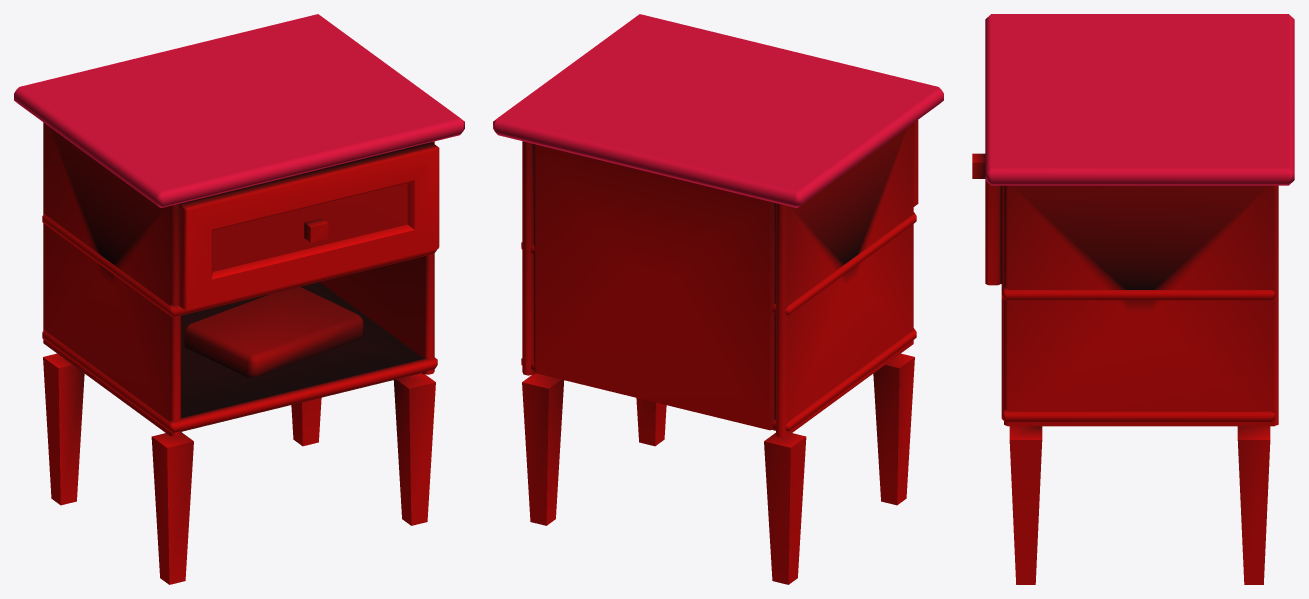
The model's file is CI_Bedroom_BedsideTable_Drawer.glb.
The picture shows the model from 3 angles, left to right: view 1: azimuth 30°, elevation 25°; view 2: azimuth 150°, elevation 25°; view 3: azimuth 270°, elevation 25°; orthographic projection. The views are drawn at different scales.
Visible parts, largest first — view 1: CI_Bedroom_BedsideTable_Drawer; view 2: CI_Bedroom_BedsideTable_Drawer; view 3: CI_Bedroom_BedsideTable_Drawer.
Part boxes in pixels (box(x1,y1,x2,y2)): CI_Bedroom_BedsideTable_Drawer: box(14, 14, 464, 584); CI_Bedroom_BedsideTable_Drawer: box(493, 14, 943, 584); CI_Bedroom_BedsideTable_Drawer: box(972, 14, 1294, 584).
Bounding box in the file's own units: 0.46 × 0.58 × 0.396.
